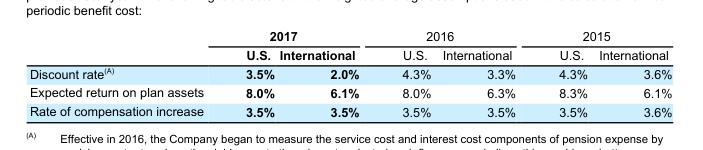table: (28, 28, 671, 118)
table column: (28, 28, 223, 118), (276, 28, 380, 118), (436, 28, 536, 118), (592, 28, 671, 118), (380, 28, 436, 118), (536, 28, 592, 118), (223, 28, 276, 118)
table column header: (28, 28, 671, 63)
table row: (28, 63, 671, 82), (28, 82, 671, 101), (28, 45, 671, 63), (28, 28, 671, 45), (28, 101, 671, 118)
table spanning cell: (223, 28, 380, 45), (380, 28, 536, 45), (536, 28, 671, 45)
